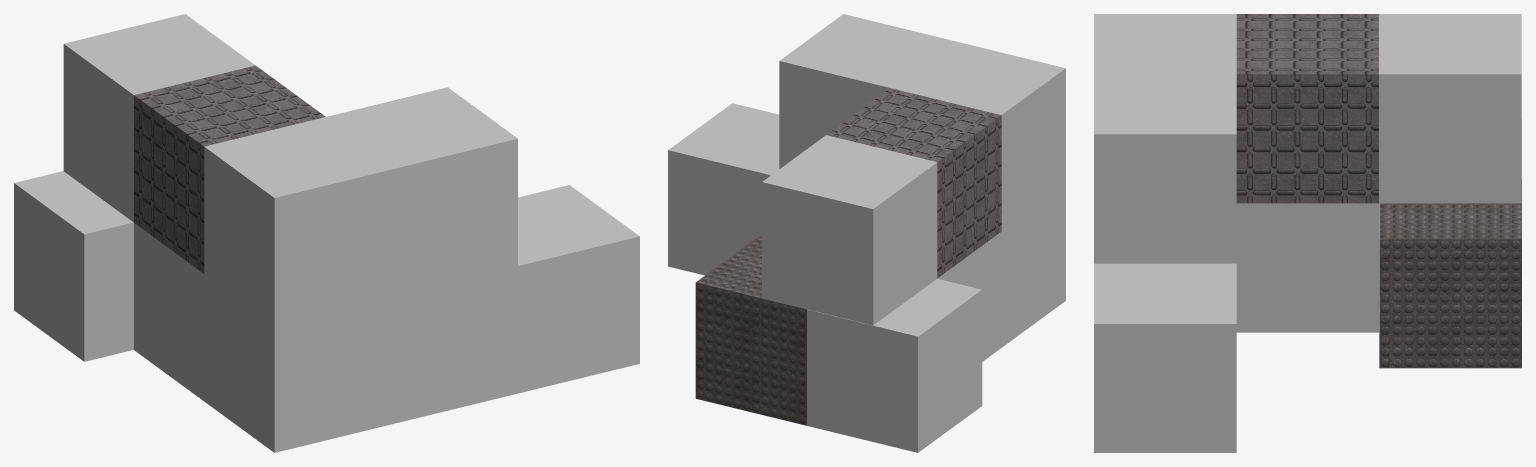
The model's file is Metal Flooring.FBX.
The picture shows the model from 3 angles, left to right: view 1: azimuth 30°, elevation 25°; view 2: azimuth 150°, elevation 25°; view 3: azimuth 270°, elevation 25°; orthographic projection. The views are drawn at different scales.
Parts seen in each view (by area): view 1: Metal_002, Metal_001, Metal_003, Metal_005, Metal_007, Metal_006, Metal_009, Metal_010, Metal_004; view 2: Metal_006, Metal_007, Metal_008, Metal_002, Metal_009, Metal_005, Metal_003, Metal_001, Metal_004; view 3: Metal_003, Metal_005, Metal_006, Metal_009, Metal_008, Metal_004, Metal_002.
Boxes of the visible parts, box(x1,y1,x2,y2) form: Metal_002: box(204, 117, 396, 325); Metal_001: box(204, 274, 396, 452); Metal_003: box(326, 87, 517, 295); Metal_005: box(518, 185, 639, 393); Metal_007: box(14, 171, 133, 361); Metal_006: box(63, 14, 255, 222); Metal_009: box(134, 65, 325, 273); Metal_010: box(396, 266, 517, 422); Metal_004: box(134, 223, 204, 400); Metal_006: box(762, 135, 937, 325); Metal_007: box(807, 278, 982, 452); Metal_008: box(695, 235, 806, 425); Metal_002: box(891, 41, 1065, 230); Metal_009: box(827, 88, 1001, 278); Metal_005: box(668, 103, 779, 275); Metal_003: box(779, 14, 954, 168); Metal_001: box(1001, 185, 1065, 347); Metal_004: box(937, 232, 1001, 361); Metal_003: box(1094, 74, 1236, 263); Metal_005: box(1094, 263, 1236, 452); Metal_006: box(1379, 14, 1521, 203); Metal_009: box(1236, 14, 1378, 203); Metal_008: box(1379, 179, 1521, 368); Metal_004: box(1236, 203, 1378, 332); Metal_002: box(1094, 14, 1236, 74).
Size of the model in its own units: 17.02 by 10 by 15.02.
